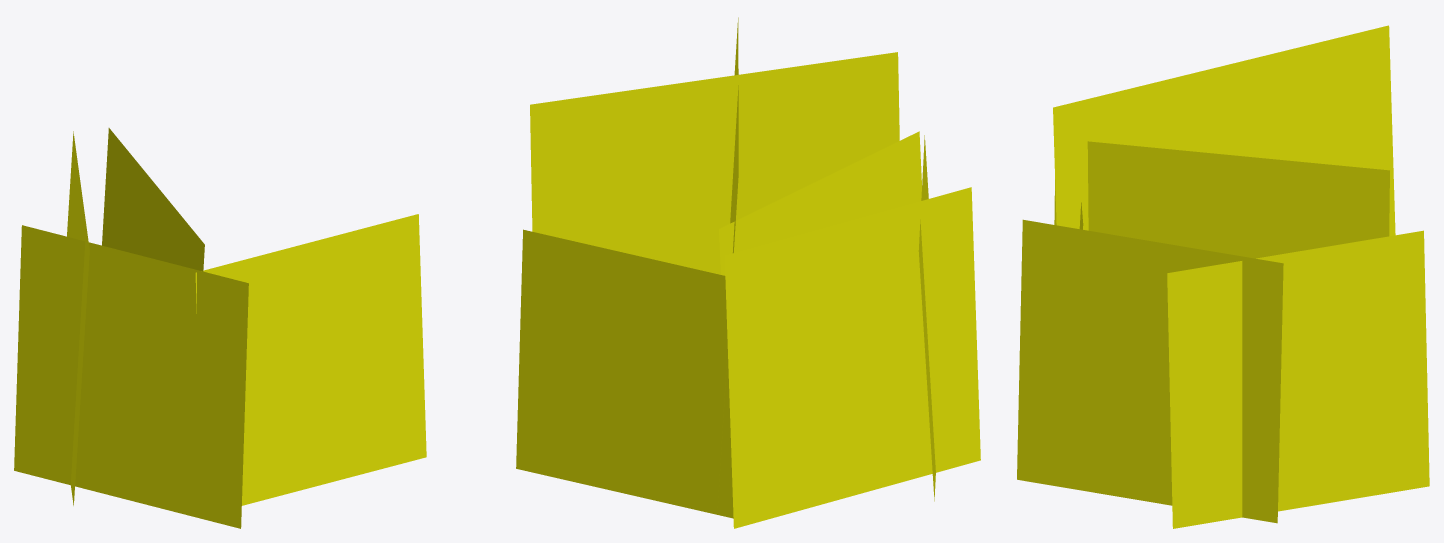
File: flower_d.glb
3 views of the same model, side by side, from view 1: azimuth 30°, elevation 25°; view 2: azimuth 150°, elevation 25°; view 3: azimuth 270°, elevation 25° (orthographic). The views are drawn at different scales.
Parts seen in each view (by area): view 1: SM_Wild_Flower_01; view 2: SM_Wild_Flower_01; view 3: SM_Wild_Flower_01.
Boxes of the visible parts, x1=… form: SM_Wild_Flower_01: x1=14, y1=128, x2=426, y2=528; SM_Wild_Flower_01: x1=516, y1=17, x2=980, y2=528; SM_Wild_Flower_01: x1=1017, y1=25, x2=1429, y2=528.
Bounding box in the file's own units: 0.7615 × 0.5867 × 0.6196.
